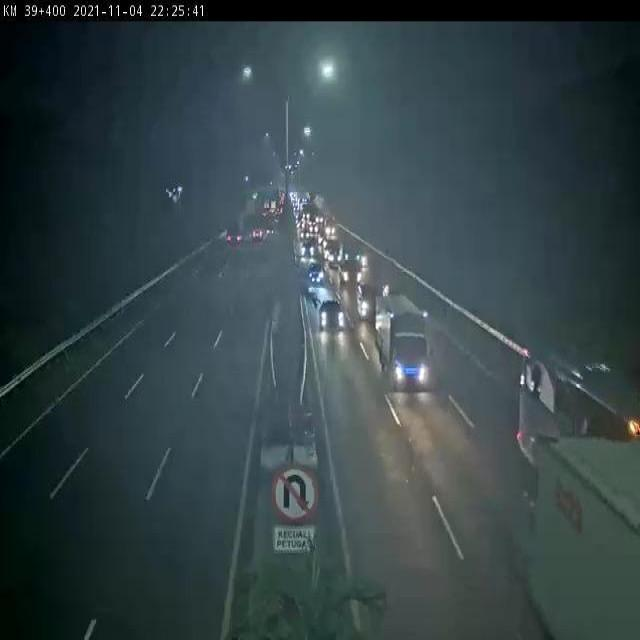car: (355, 281, 386, 324), (317, 300, 348, 332), (339, 253, 367, 287), (308, 261, 329, 291)
truck-m-: (377, 294, 431, 389)
